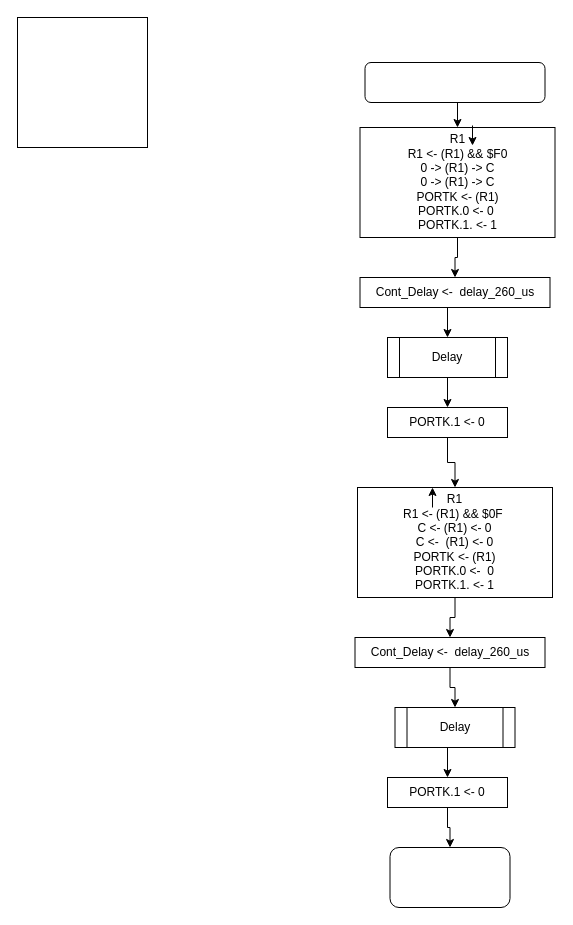
This 573x925 diagram has some shape labels left out. Here are the shapes that lost their labels. From the top down, the centre of each, then its label:
At (82,82): "C - carry K. - Y J - X R1 - A R2 - B RR1 - D".
At (454,82): "SEND_COMMAND".
At (449,877): "RETURN".
